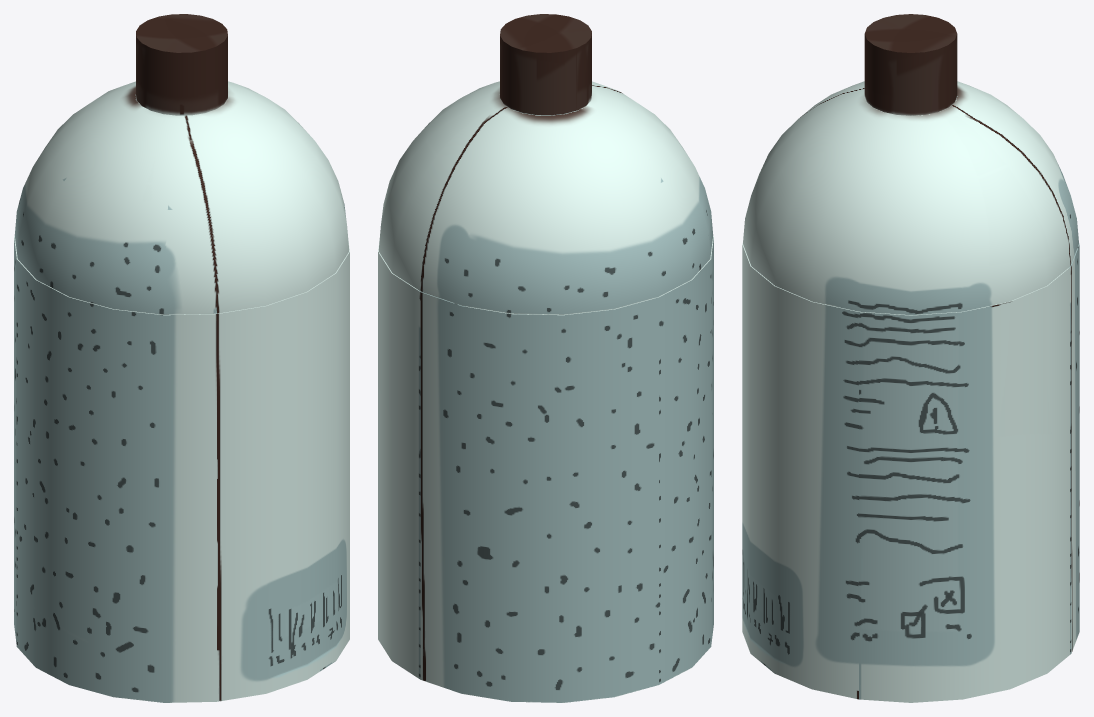
File: champu_pint.fbx
The picture shows the model from 3 angles, left to right: view 1: azimuth 30°, elevation 25°; view 2: azimuth 150°, elevation 25°; view 3: azimuth 270°, elevation 25°; orthographic projection.
Visible parts, largest first — view 1: pCylinder2; view 2: pCylinder2; view 3: pCylinder2.
Boxes of the visible parts, bbox=[...] form: pCylinder2: bbox=[14, 14, 349, 702]; pCylinder2: bbox=[378, 14, 713, 702]; pCylinder2: bbox=[742, 14, 1079, 702].
Bounding box in the file's own units: 648 × 1268 × 648.
1 material, 1 textured.
